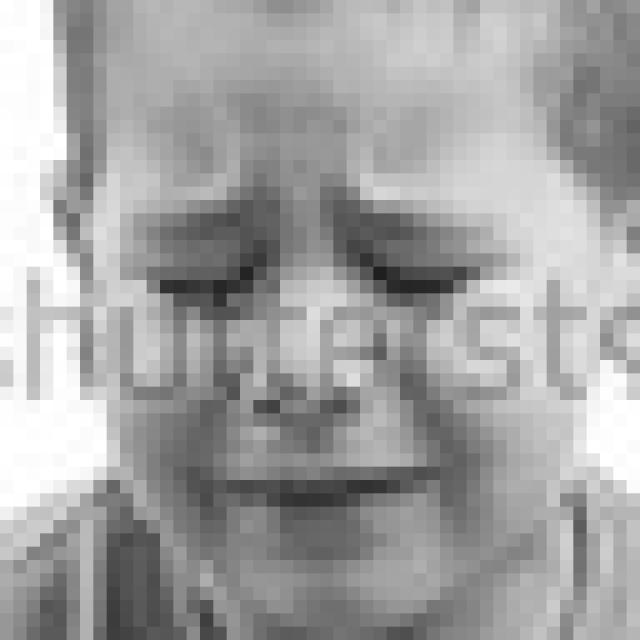sad: (111, 148, 512, 559)
